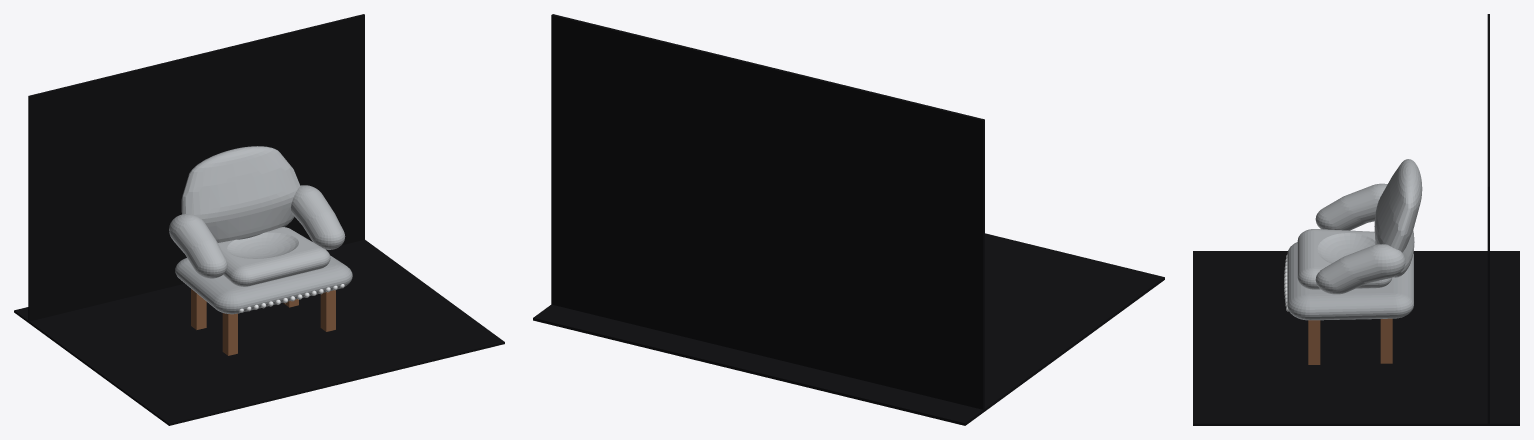
3 renders of one model, left to right at view 1: azimuth 30°, elevation 25°; view 2: azimuth 150°, elevation 25°; view 3: azimuth 270°, elevation 25°, orthographic. The views are drawn at different scales.
Parts seen in each view (by area): view 1: geometry_0_cube.001, geometry_0_cube, geometry_0_hull.002, geometry_0_hull.001, geometry_0_hull, geometry_0_hull.003, geometry_0_hull.004, geometry_0_cube.002, geometry_0_cube.003, geometry_0_cube.004; view 2: geometry_0_cube.001, geometry_0_cube; view 3: geometry_0_cube, geometry_0_hull, geometry_0_hull.002, geometry_0_hull.001, geometry_0_hull.004, geometry_0_hull.003, geometry_0_cube.001, geometry_0_cube.005, geometry_0_cube.003.
Part boxes in pixels (x1=…): geometry_0_cube.001: x1=28, y1=14, x2=364, y2=321; geometry_0_cube: x1=14, y1=240, x2=504, y2=425; geometry_0_hull.002: x1=181, y1=146, x2=300, y2=242; geometry_0_hull.001: x1=218, y1=227, x2=330, y2=286; geometry_0_hull: x1=175, y1=255, x2=352, y2=314; geometry_0_hull.003: x1=169, y1=214, x2=227, y2=278; geometry_0_hull.004: x1=291, y1=185, x2=345, y2=249; geometry_0_cube.002: x1=222, y1=313, x2=237, y2=355; geometry_0_cube.003: x1=320, y1=290, x2=335, y2=331; geometry_0_cube.004: x1=191, y1=289, x2=206, y2=329; geometry_0_cube.001: x1=551, y1=14, x2=984, y2=409; geometry_0_cube: x1=533, y1=233, x2=1164, y2=425; geometry_0_cube: x1=1193, y1=251, x2=1519, y2=425; geometry_0_hull: x1=1287, y1=242, x2=1413, y2=320; geometry_0_hull.002: x1=1374, y1=159, x2=1422, y2=277; geometry_0_hull.001: x1=1297, y1=229, x2=1391, y2=289; geometry_0_hull.004: x1=1315, y1=244, x2=1405, y2=294; geometry_0_hull.003: x1=1315, y1=183, x2=1387, y2=230; geometry_0_cube.001: x1=1487, y1=14, x2=1489, y2=423; geometry_0_cube.005: x1=1380, y1=318, x2=1392, y2=363; geometry_0_cube.003: x1=1308, y1=320, x2=1320, y2=364.
Size of the model in its own units: 5 by 3.23 by 4.
